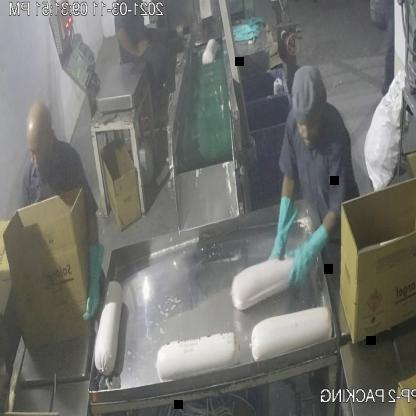glove: (284, 219, 331, 296), (265, 192, 301, 268), (79, 234, 109, 325)
no_glove: (107, 21, 151, 92)
